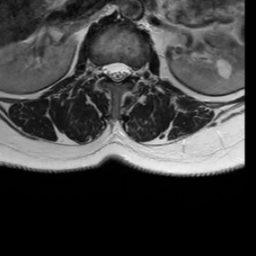CCS_normal: (112, 55, 121, 91)
LFS_normal: (131, 57, 140, 84)
LLS_normal: (121, 55, 131, 87)
RFS_normal: (92, 58, 103, 85)
RLS_normal: (102, 57, 112, 85)
